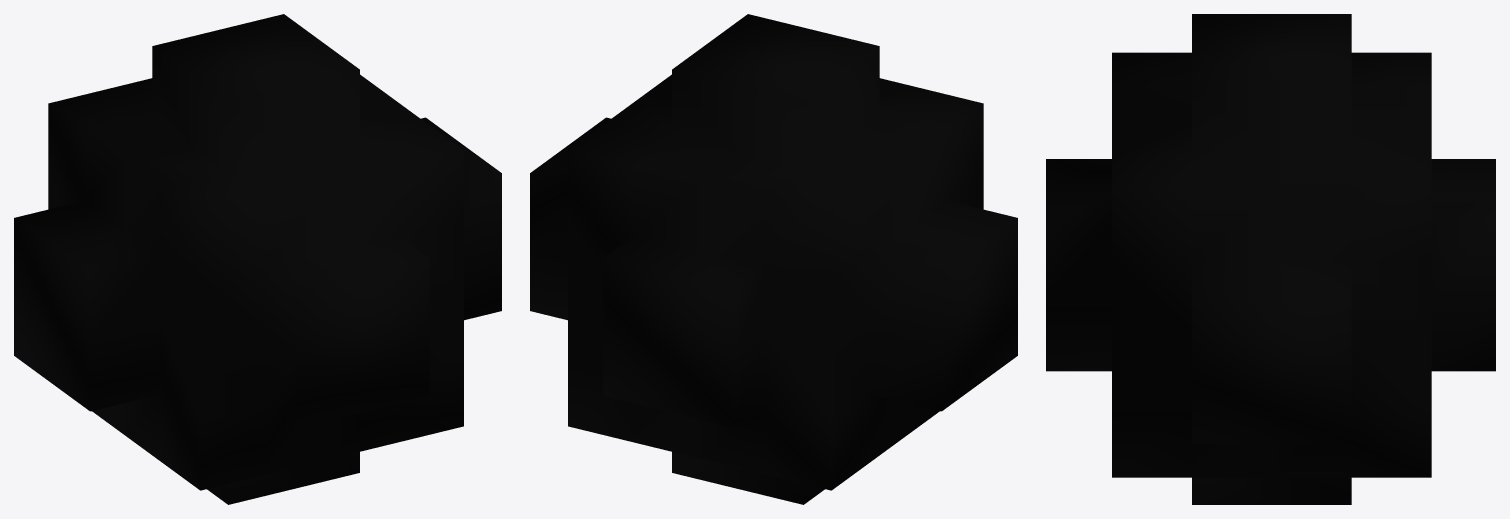
The model's file is energy-cube.obj.
3 views of the same model, side by side, from view 1: azimuth 30°, elevation 25°; view 2: azimuth 150°, elevation 25°; view 3: azimuth 270°, elevation 25° (orthographic). The views are drawn at different scales.
Parts seen in each view (by area): view 1: Cube; view 2: Cube; view 3: Cube.
Boxes of the visible parts, bbox=[...] form: Cube: bbox=[14, 14, 501, 504]; Cube: bbox=[530, 14, 1017, 504]; Cube: bbox=[1046, 14, 1495, 504].
Bounding box in the file's own units: 1.72 × 1.61 × 1.55.
